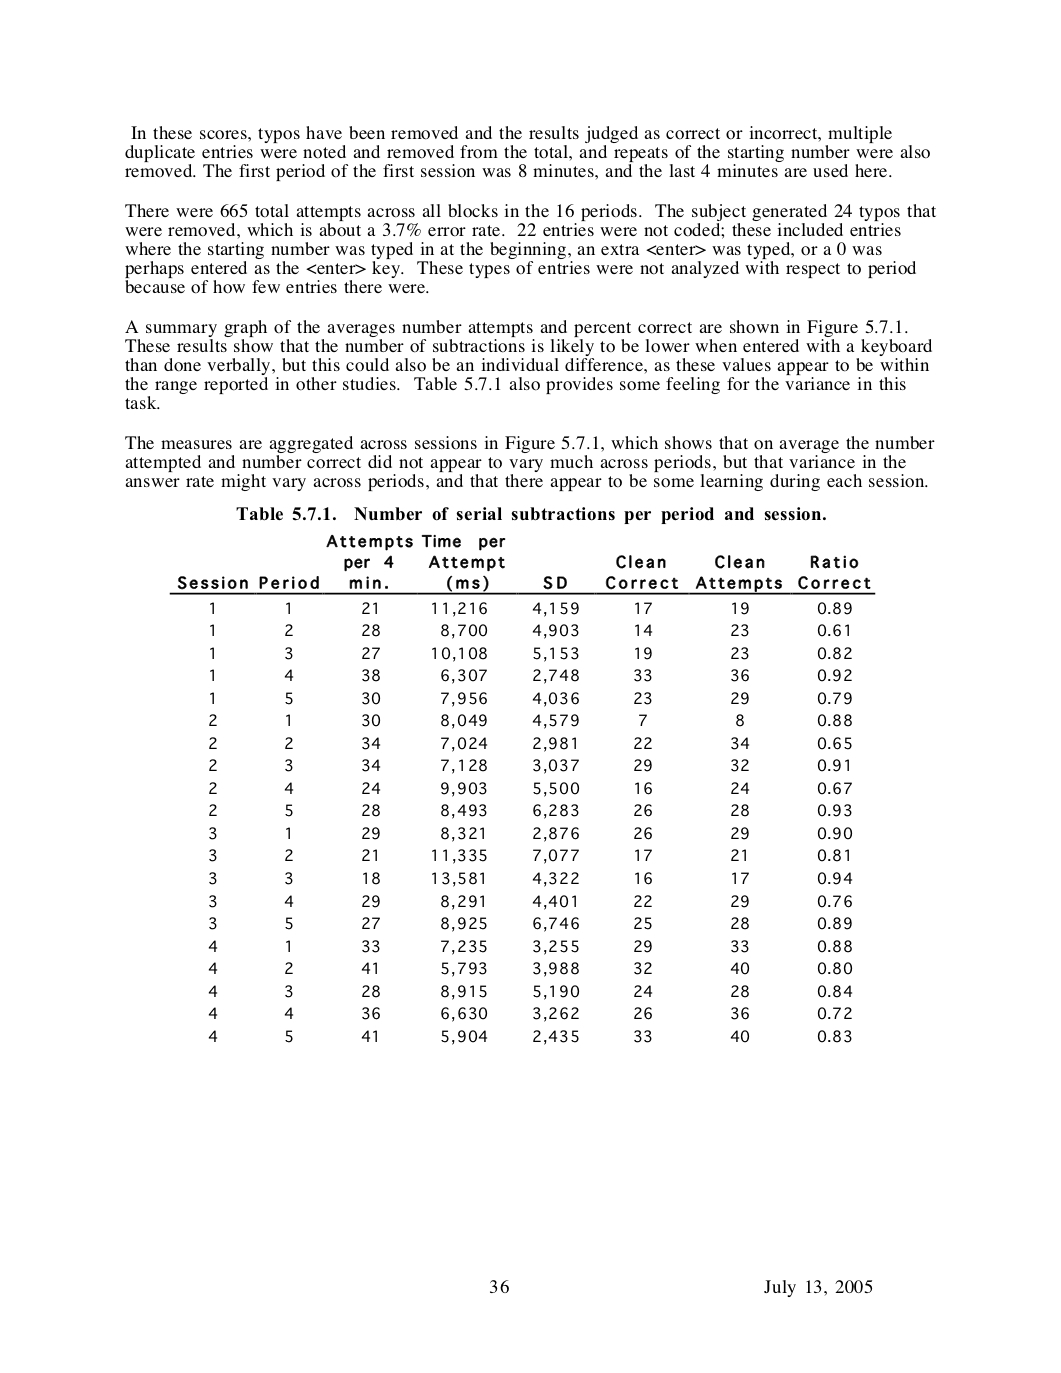Table: (169, 534, 875, 1044)
